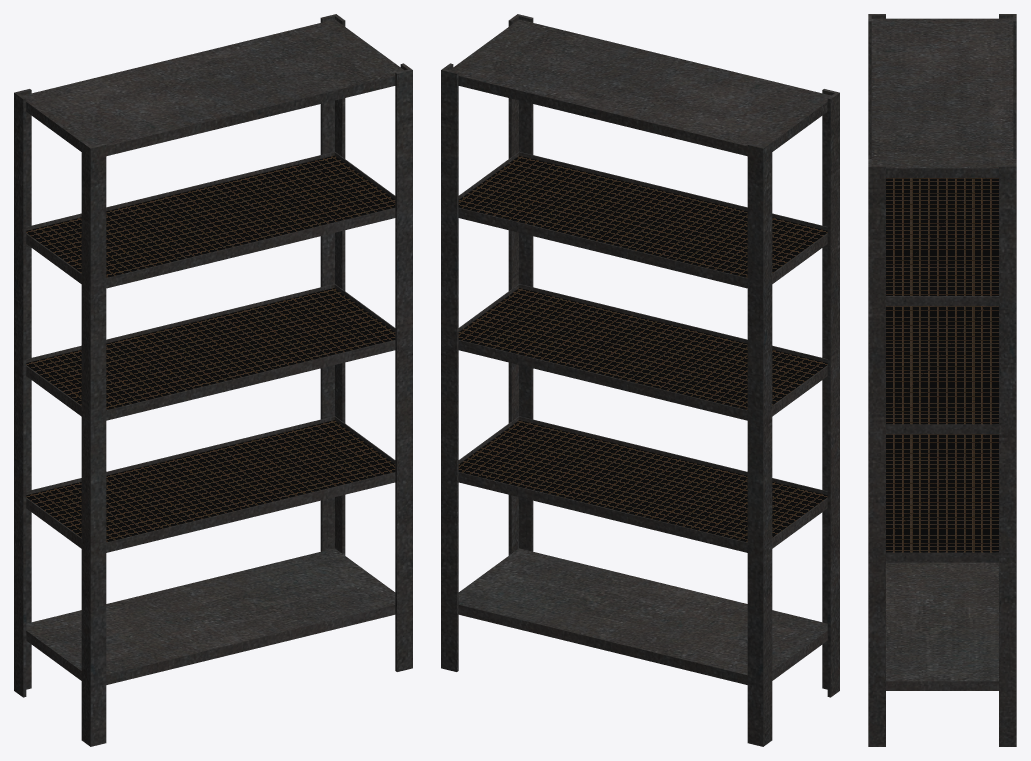
Rendered from shelf_mx_6_1.obj.
The picture shows the model from 3 angles, left to right: view 1: azimuth 30°, elevation 25°; view 2: azimuth 150°, elevation 25°; view 3: azimuth 270°, elevation 25°; orthographic projection. The views are drawn at different scales.
Visible parts, largest first — view 1: shelf_mx_6_1; view 2: shelf_mx_6_1; view 3: shelf_mx_6_1.
Part boxes in pixels (bbox=[...]): shelf_mx_6_1: bbox=[14, 14, 412, 746]; shelf_mx_6_1: bbox=[441, 14, 839, 746]; shelf_mx_6_1: bbox=[868, 14, 1016, 746].
Bounding box in the file's own units: 1.02 × 1.81 × 0.42.
